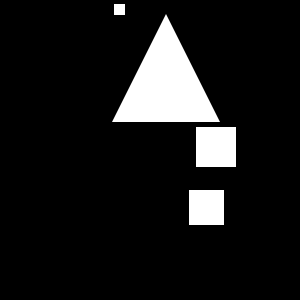circle: (196, 127, 236, 167), (189, 190, 224, 225), (114, 4, 125, 15)
triangle: (112, 14, 220, 122)
